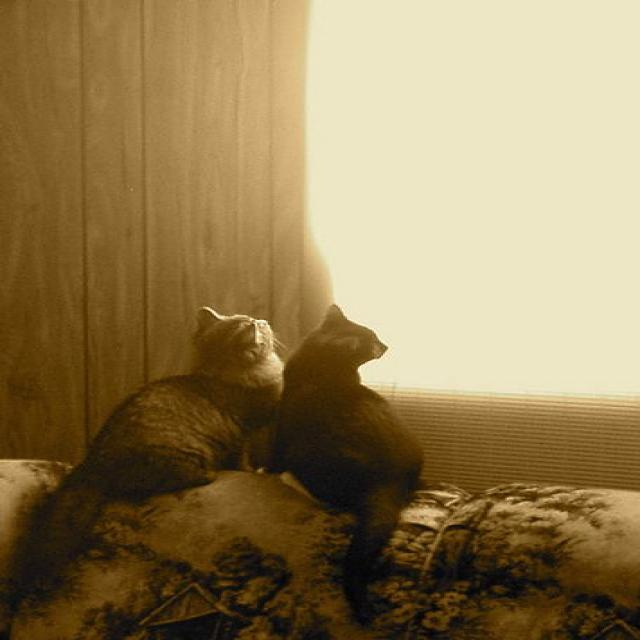cat: (12, 306, 285, 607), (285, 304, 425, 622)
sofa: (1, 459, 639, 640)
